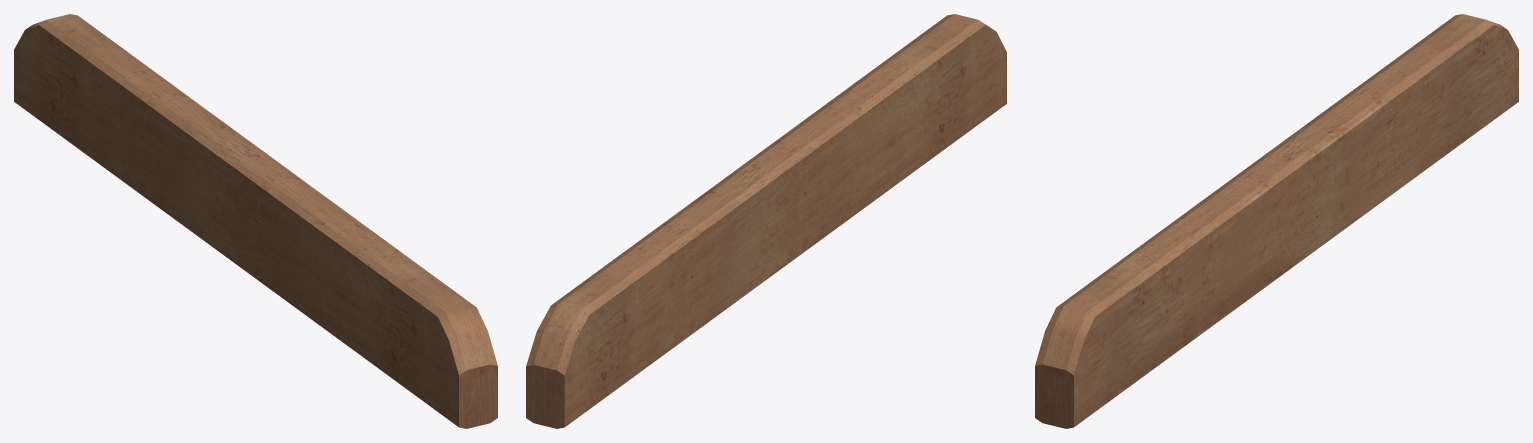
File: SM_JSH_BeamB.fbx
The picture shows the model from 3 angles, left to right: view 1: azimuth 30°, elevation 25°; view 2: azimuth 150°, elevation 25°; view 3: azimuth 330°, elevation 25°; orthographic projection.
Visible parts, largest first — view 1: SM_JSH_BeamB; view 2: SM_JSH_BeamB; view 3: SM_JSH_BeamB.
Boxes of the visible parts, box(x1,y1,x2,y2) form: SM_JSH_BeamB: box(14, 14, 497, 428); SM_JSH_BeamB: box(526, 14, 1006, 428); SM_JSH_BeamB: box(1035, 14, 1518, 428).
Bounding box in the file's own units: 16.75 × 332 × 41.9.
1 material, 1 textured.
